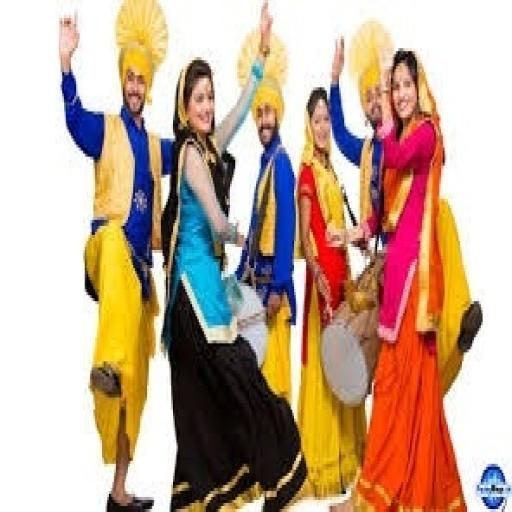dancing: (159, 0, 310, 509), (330, 36, 484, 509)
